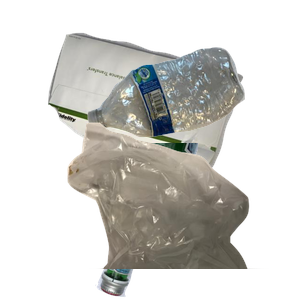glass: (93, 143, 284, 300)
paper: (45, 30, 281, 195)
plastic: (85, 45, 300, 175)
trash: (65, 120, 300, 300)
